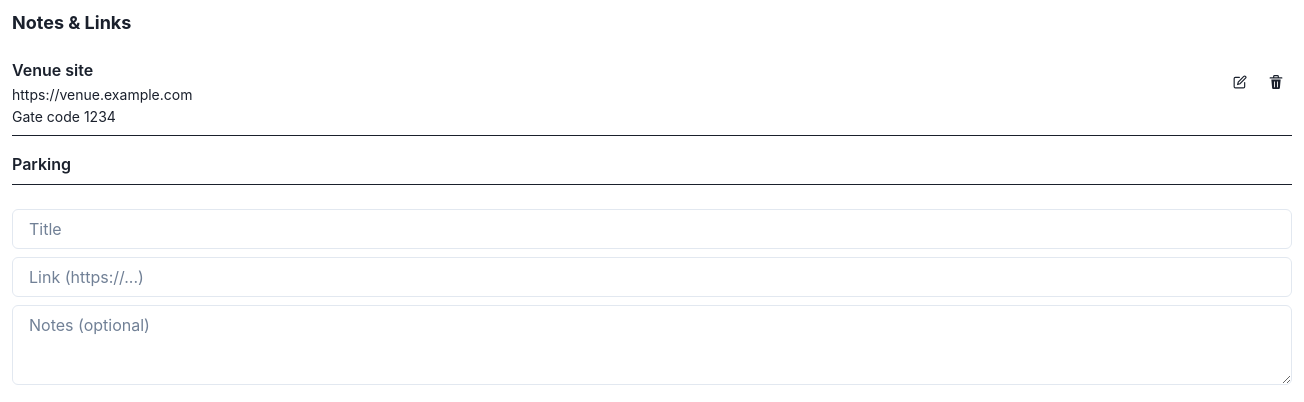
Test case: EventNotes › deletes an entry via DELETE and removes the row
This screenshot has width=1304, height=402.
Expected: the text "Venue site" is shown, x1=12 y1=60 x2=93 y2=80
Click the button named "Delete note:" at (1276, 82), box x1=1260 y1=58 x2=1292 y2=106
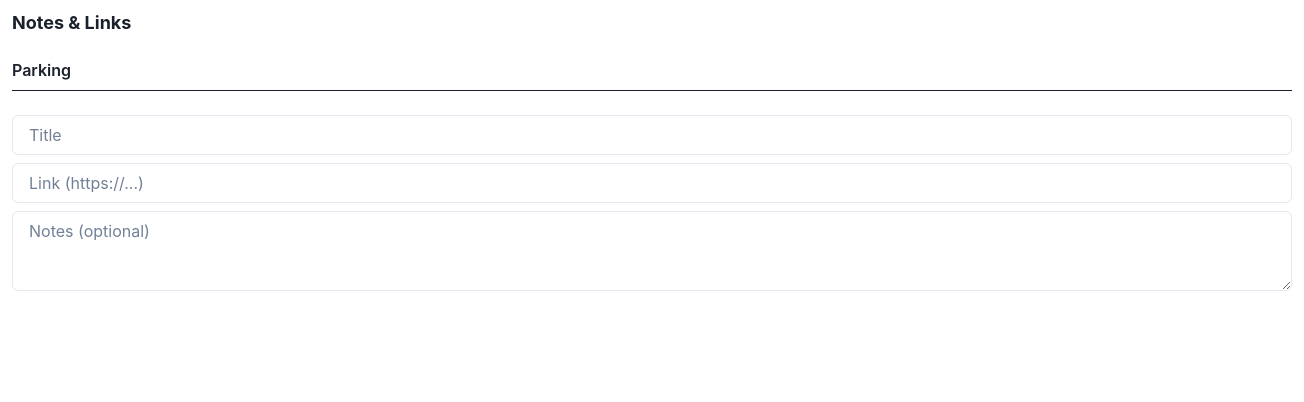
Now the text "Venue site" is gone
